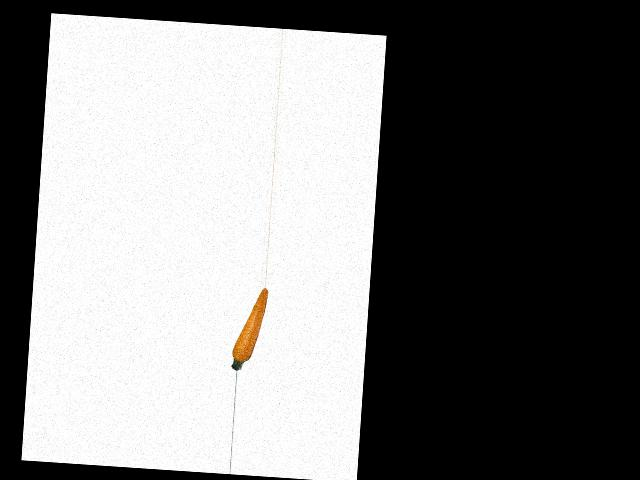carrot: (230, 286, 268, 372)
